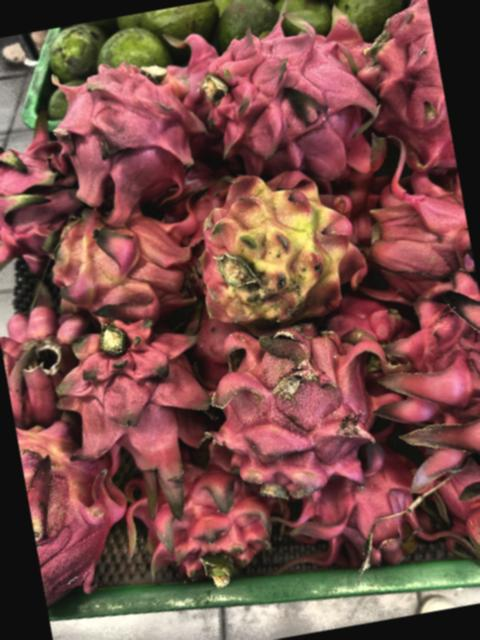buah-naga-belum-matang: (205, 297, 408, 519), (191, 155, 372, 332), (16, 412, 142, 616), (37, 189, 211, 335)
buah-naga-matang: (173, 2, 392, 200), (37, 40, 216, 234), (53, 313, 223, 507), (268, 447, 460, 596), (129, 438, 287, 598), (383, 282, 480, 466), (363, 171, 480, 322), (359, 0, 456, 176), (0, 129, 98, 274), (396, 411, 480, 577), (0, 292, 100, 427)
